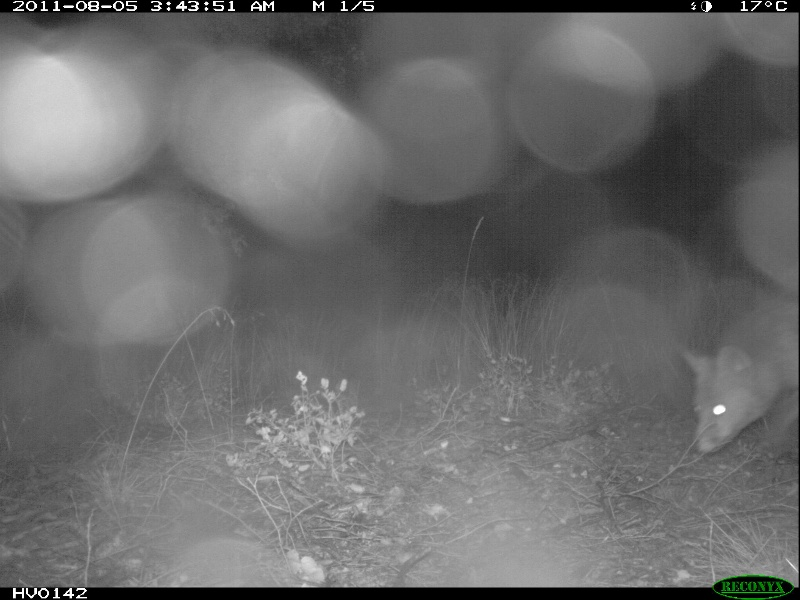fox: (682, 294, 799, 458)
